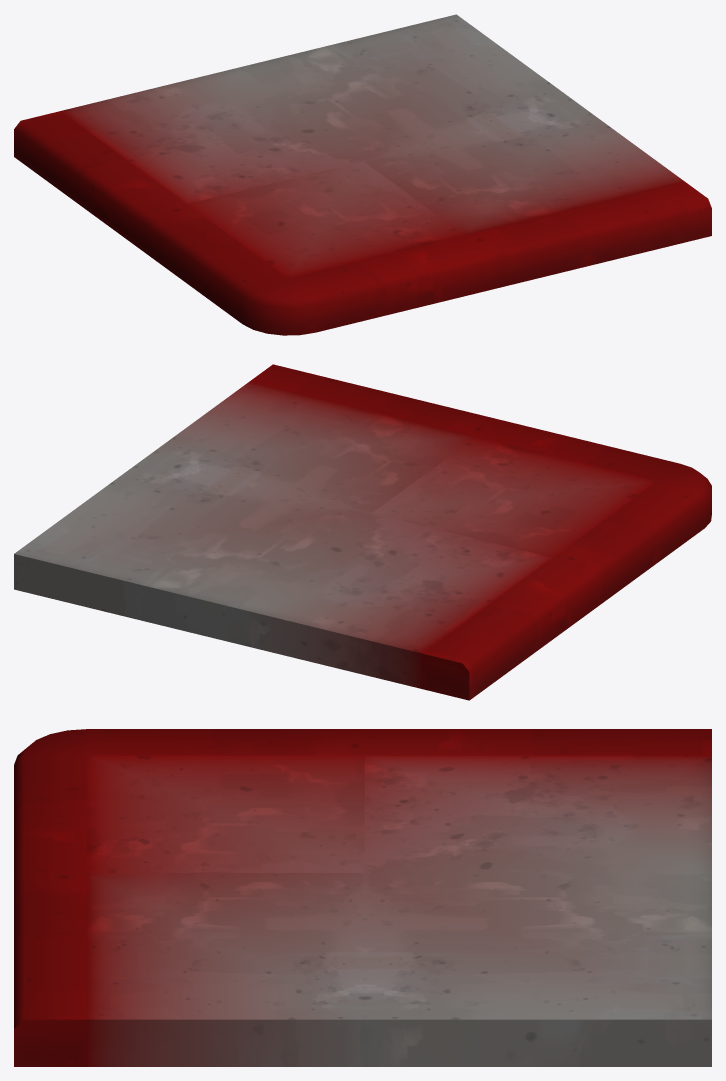
File: Sidewalk_Corner_Flat_2m.gltf
The picture shows the model from 3 angles, top to bottom: view 1: azimuth 30°, elevation 25°; view 2: azimuth 150°, elevation 25°; view 3: azimuth 270°, elevation 25°; orthographic projection. The views are drawn at different scales.
Parts seen in each view (by area): view 1: Sidewalk_Corner_Flat_2m; view 2: Sidewalk_Corner_Flat_2m; view 3: Sidewalk_Corner_Flat_2m.
Boxes of the visible parts, x1=… form: Sidewalk_Corner_Flat_2m: x1=14, y1=14, x2=711, y2=335; Sidewalk_Corner_Flat_2m: x1=14, y1=364, x2=711, y2=700; Sidewalk_Corner_Flat_2m: x1=14, y1=729, x2=711, y2=1066.
Bounding box in the file's own units: 2.01 × 0.15 × 2.01.
1 material, 1 textured.
